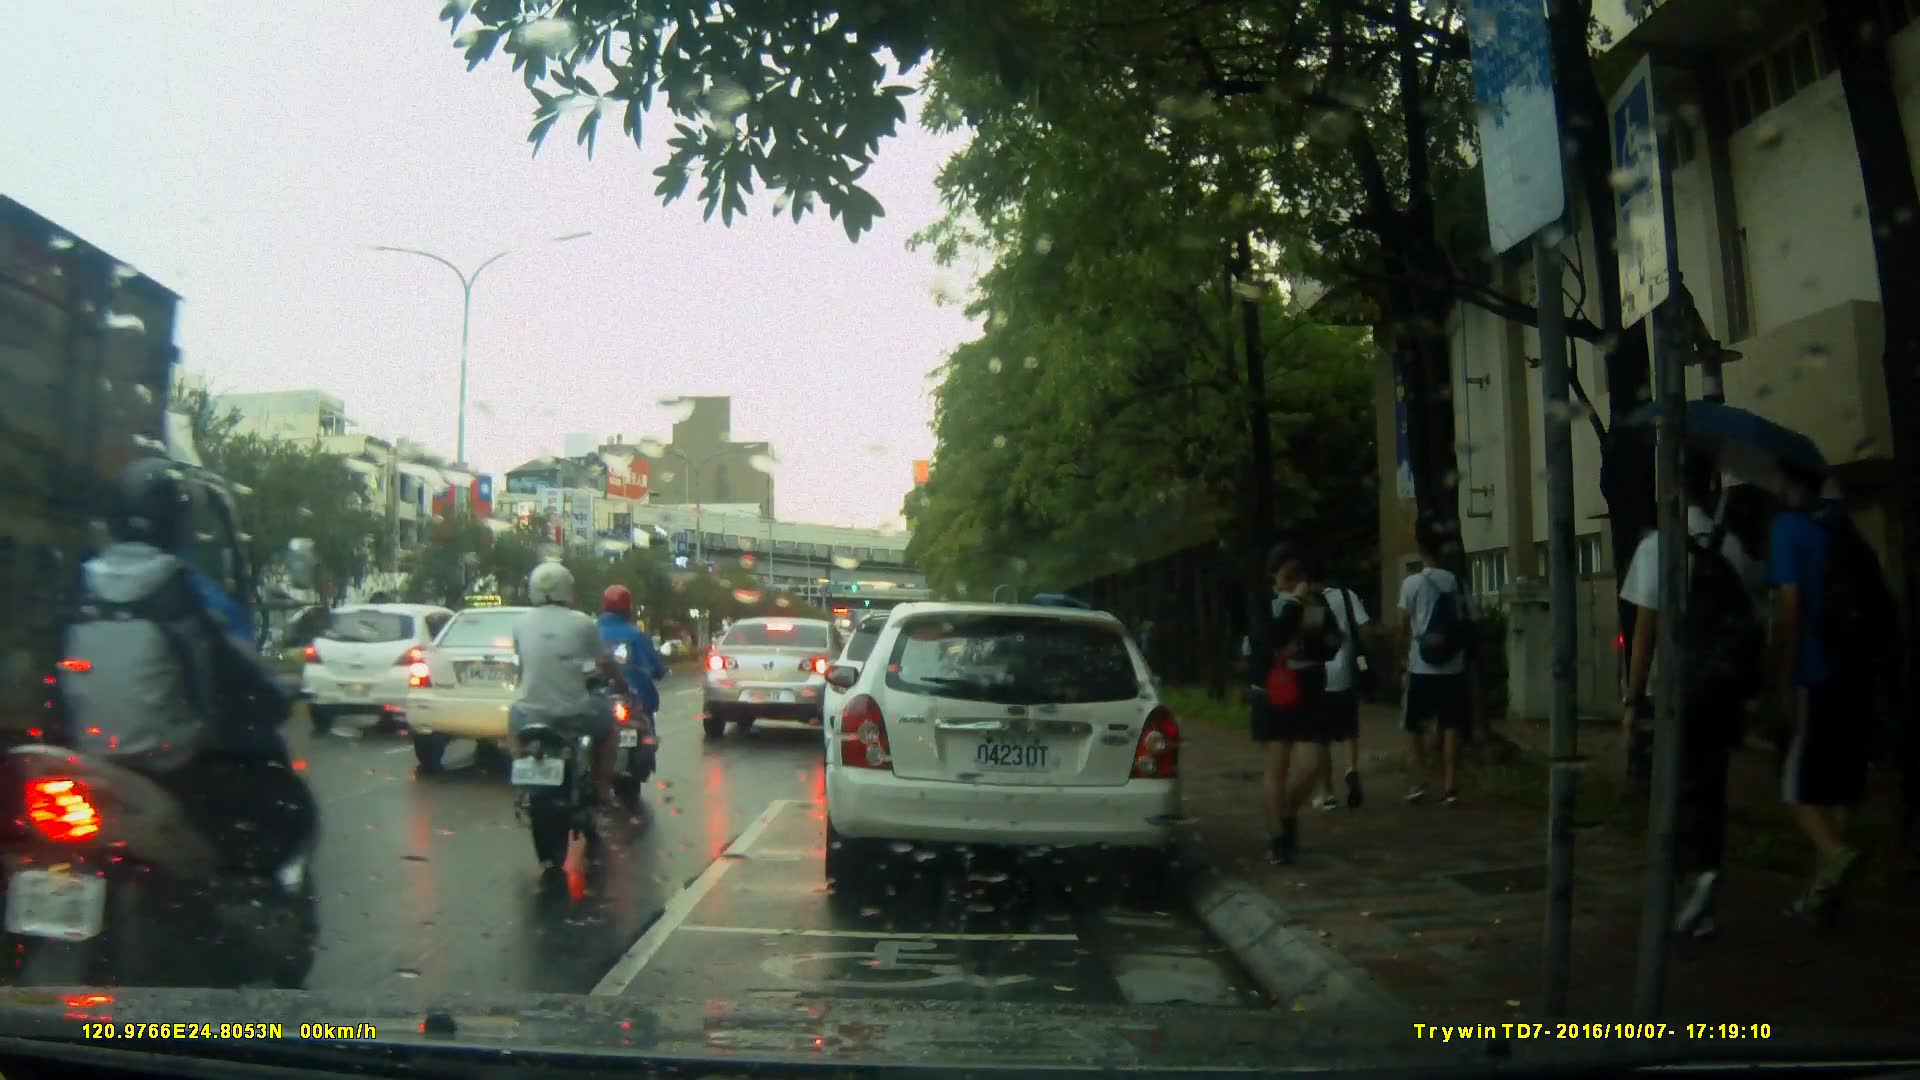pedestrian: (1723, 419, 1874, 940), (1614, 435, 1759, 951), (1382, 519, 1483, 819), (1236, 556, 1331, 865), (1293, 561, 1370, 820)
rider: (23, 461, 327, 1059), (504, 553, 625, 868), (587, 585, 676, 795)
vehicle: (820, 602, 1188, 898), (401, 604, 658, 780), (299, 602, 495, 732), (700, 614, 865, 741)
